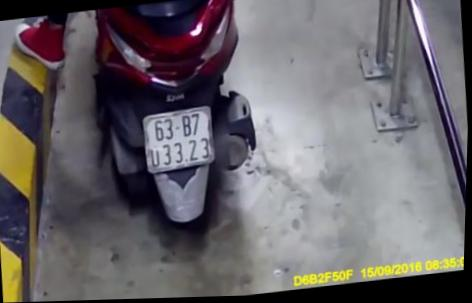LP: (141, 104, 219, 173)
